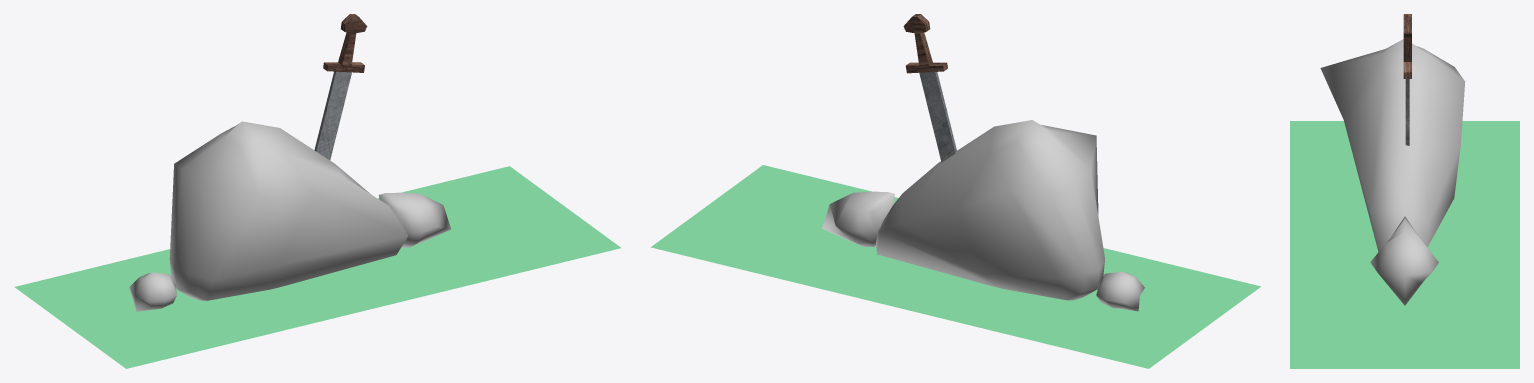
File: Artur knife.fbx
The picture shows the model from 3 angles, left to right: view 1: azimuth 30°, elevation 25°; view 2: azimuth 150°, elevation 25°; view 3: azimuth 270°, elevation 25°; orthographic projection. The views are drawn at different scales.
Parts seen in each view (by area): view 1: Plane.002, Cube, Cube.001, Plane, Cube.002, Plane.001; view 2: Plane.002, Cube, Cube.001, Plane, Cube.002, Plane.001; view 3: Plane.002, Cube, Cube.001, Plane.001, Plane.
Part boxes in pixels (x1=…): Plane.002: x1=14, y1=166, x2=620, y2=368; Cube: x1=169, y1=121, x2=408, y2=300; Cube.001: x1=378, y1=192, x2=450, y2=247; Plane: x1=314, y1=71, x2=351, y2=160; Cube.002: x1=129, y1=272, x2=176, y2=311; Plane.001: x1=323, y1=14, x2=367, y2=72; Plane.002: x1=651, y1=165, x2=1260, y2=368; Cube: x1=876, y1=120, x2=1104, y2=300; Cube.001: x1=822, y1=191, x2=894, y2=246; Plane: x1=919, y1=72, x2=956, y2=162; Cube.002: x1=1096, y1=272, x2=1144, y2=311; Plane.001: x1=903, y1=14, x2=947, y2=73; Plane.002: x1=1290, y1=121, x2=1519, y2=368; Cube: x1=1320, y1=39, x2=1465, y2=251; Cube.001: x1=1370, y1=216, x2=1438, y2=305; Plane.001: x1=1403, y1=14, x2=1411, y2=78; Plane: x1=1405, y1=79, x2=1409, y2=145.
Size of the model in its own units: 511 by 245 by 200.
